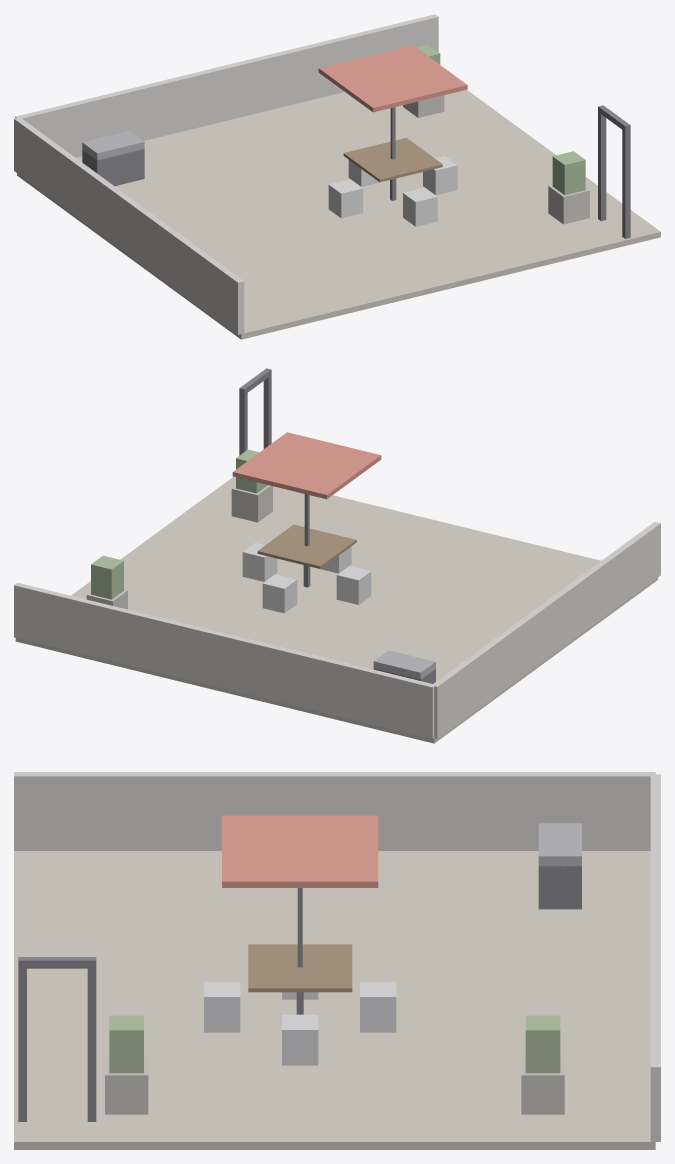
The model's file is scene-partyroom-rooftop.glb.
3 renders of one model, top to bottom at view 1: azimuth 30°, elevation 25°; view 2: azimuth 150°, elevation 25°; view 3: azimuth 270°, elevation 25°, orthographic. The views are drawn at different scales.
Parts seen in each view (by area): view 1: floor, parapet_back, parapet_left, parasol_top, outdoor_table, bbq_grill, planter_leaf_1, planter_1, bbq_lid, outdoor_chair_0, outdoor_chair_3, gate_post_l (+3 smaller); view 2: floor, parapet_back, parapet_left, parasol_top, outdoor_table, planter_leaf_0, planter_1, bbq_lid, outdoor_chair_2, outdoor_chair_0, outdoor_chair_1, gate_post_l (+1 smaller); view 3: floor, parapet_left, parasol_top, outdoor_table, parapet_back, planter_leaf_0, planter_leaf_1, planter_0, planter_1, bbq_lid, bbq_grill, outdoor_chair_1 (+5 smaller).
Boxes of the visible parts, x1,y1,x2,y2 form: floor: (17, 89, 660, 339); parapet_back: (15, 14, 438, 157); parapet_left: (14, 117, 244, 334); parasol_top: (318, 45, 467, 112); outdoor_table: (343, 137, 442, 182); bbq_grill: (82, 149, 144, 186); planter_leaf_1: (552, 151, 585, 195); planter_1: (548, 185, 589, 224); bbq_lid: (82, 131, 144, 160); outdoor_chair_0: (328, 179, 363, 218); outdoor_chair_3: (403, 187, 437, 226); gate_post_l: (622, 127, 630, 238); floor: (15, 476, 657, 743); parapet_back: (14, 582, 435, 739); parapet_left: (433, 522, 660, 738); parasol_top: (232, 432, 381, 499); outdoor_table: (257, 524, 356, 568); planter_leaf_0: (91, 555, 123, 599); planter_1: (231, 485, 272, 522); bbq_lid: (373, 650, 435, 680); outdoor_chair_2: (262, 574, 297, 613); outdoor_chair_0: (336, 566, 371, 604); outdoor_chair_1: (242, 543, 277, 581); gate_post_l: (263, 373, 271, 448); floor: (14, 851, 655, 1149); parapet_left: (14, 772, 655, 850); parasol_top: (222, 815, 378, 887); outdoor_table: (248, 944, 352, 992); parapet_back: (650, 774, 660, 1141); planter_leaf_0: (525, 1015, 560, 1073); planter_leaf_1: (109, 1015, 143, 1073); planter_0: (521, 1057, 564, 1114); planter_1: (105, 1057, 148, 1114); bbq_lid: (538, 823, 581, 867); bbq_grill: (538, 866, 581, 909); outdoor_chair_1: (282, 1014, 318, 1065).
Size of the model in its own units: 8.06 by 2.34 by 7.46.
